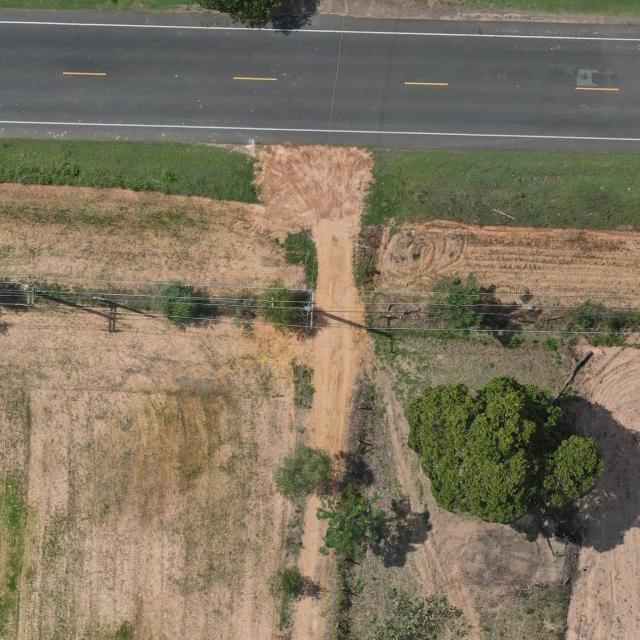Tree: (405, 374, 600, 525), (368, 585, 472, 640), (315, 487, 383, 558), (273, 443, 331, 502), (432, 271, 487, 328), (255, 276, 299, 334), (153, 283, 201, 324), (277, 566, 306, 598)
